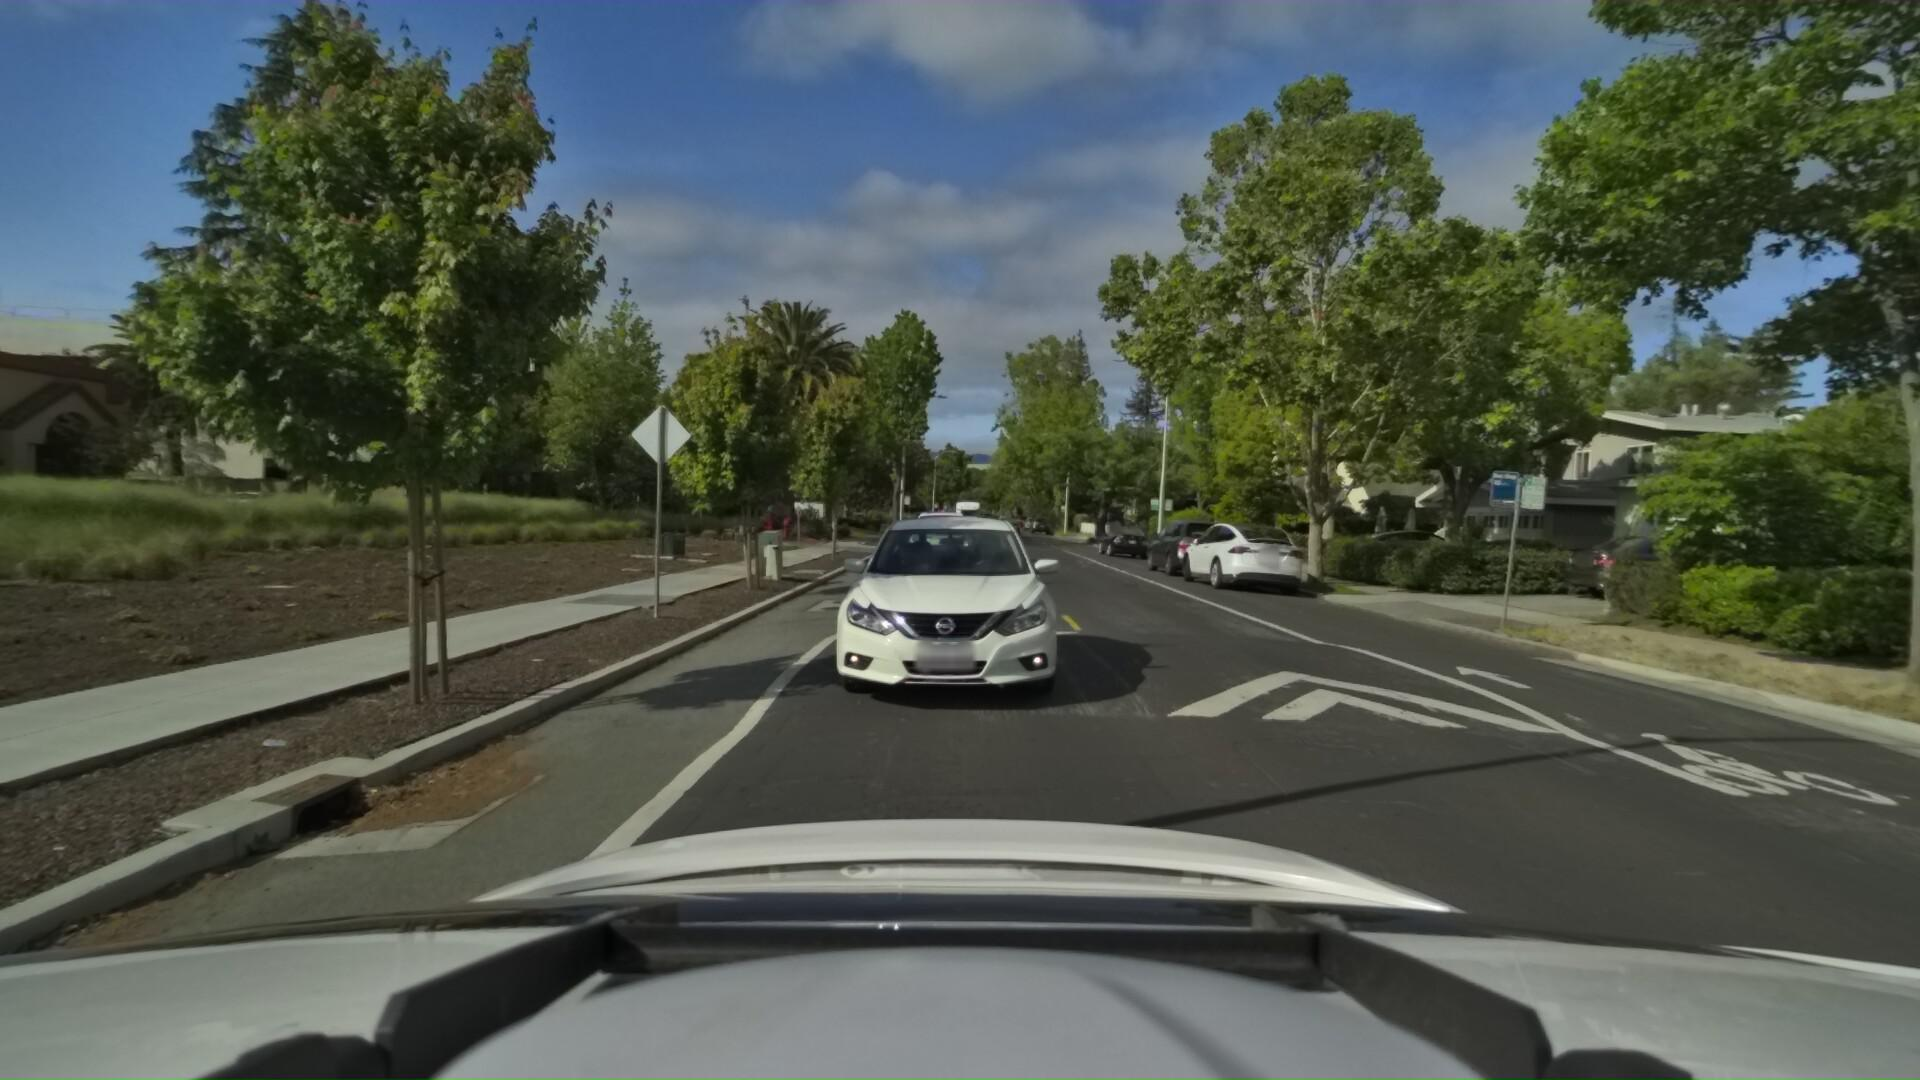car: (795, 512, 1077, 737), (1538, 525, 1784, 607), (1170, 517, 1309, 595), (1137, 516, 1240, 585), (895, 502, 971, 568), (1092, 521, 1150, 559), (996, 513, 1022, 534)
